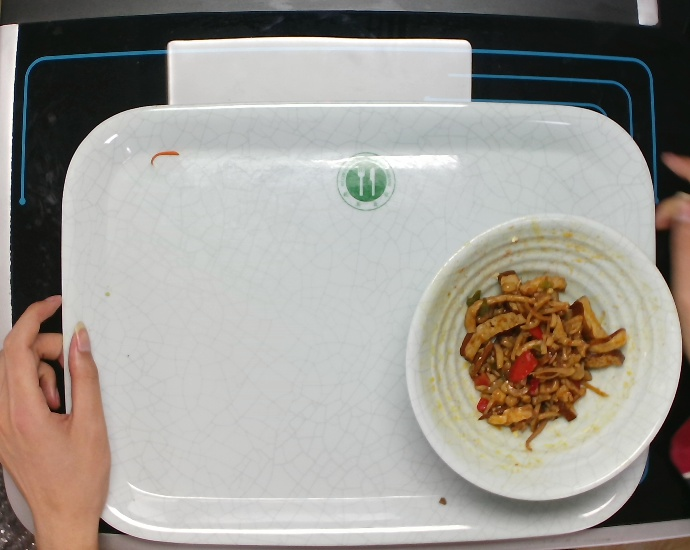JYsf-Xiao_Tang_Wan: (399, 208, 690, 509)
